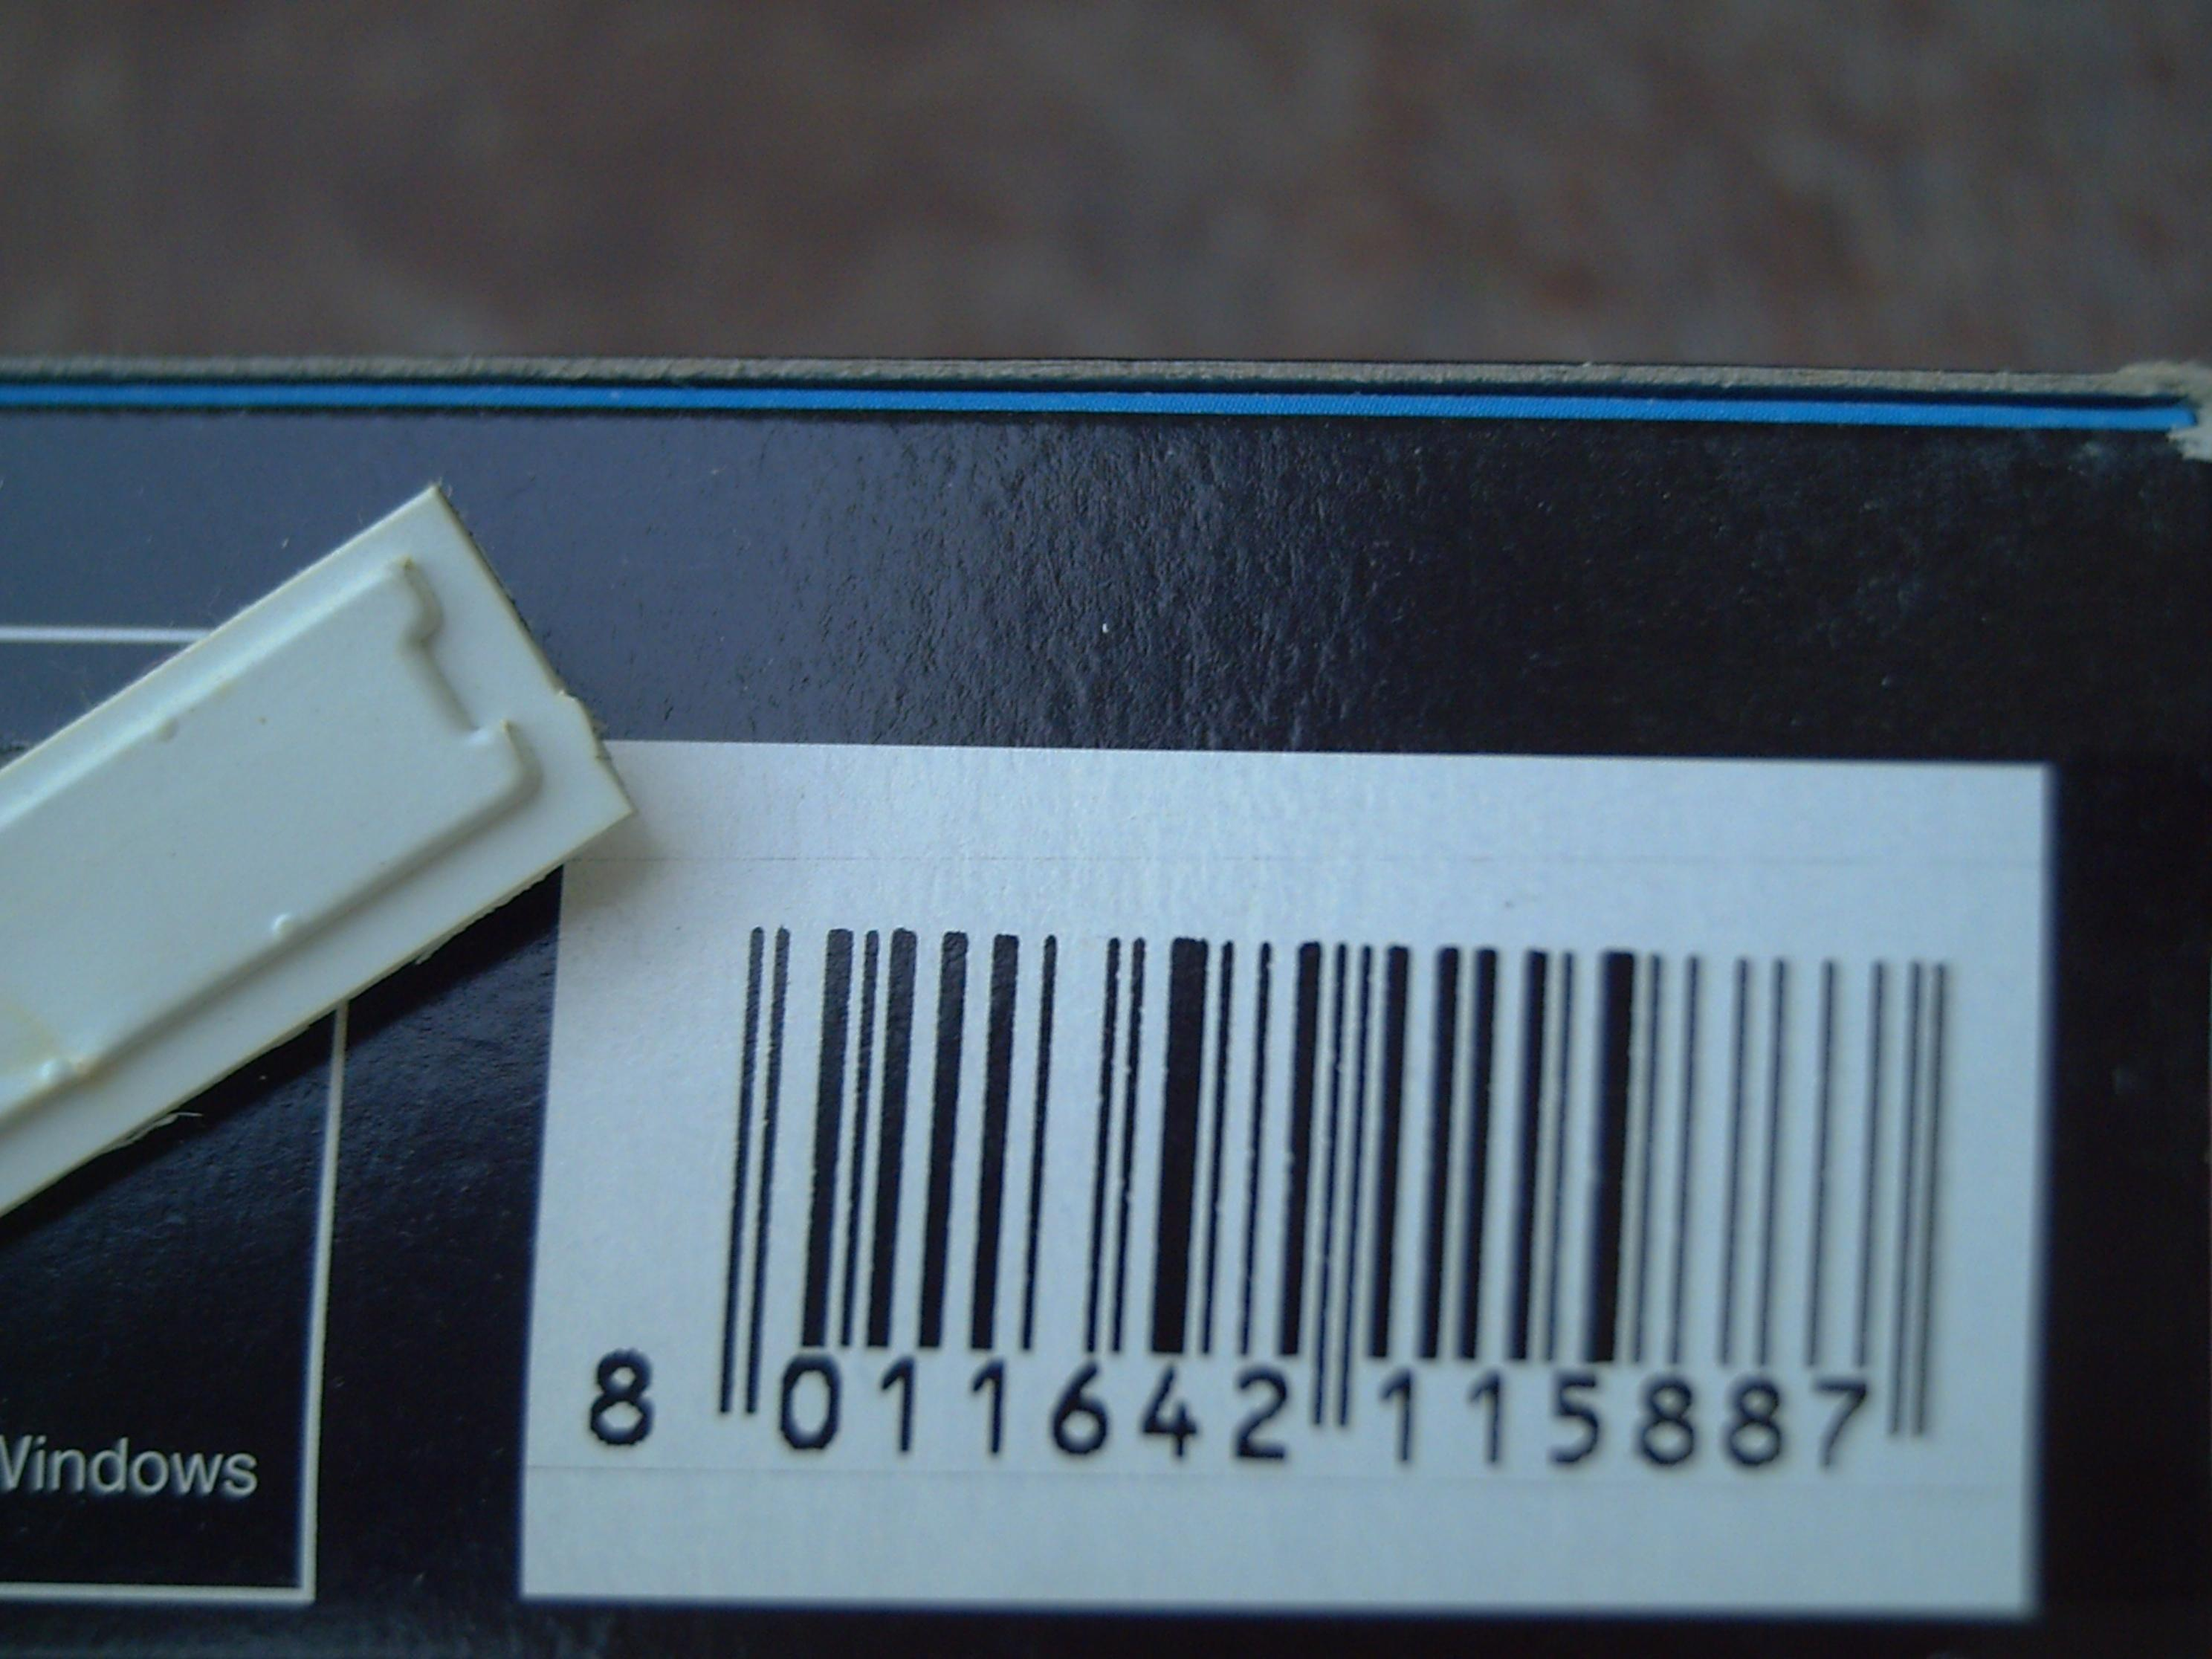barcode: (528, 863, 2027, 1488)
